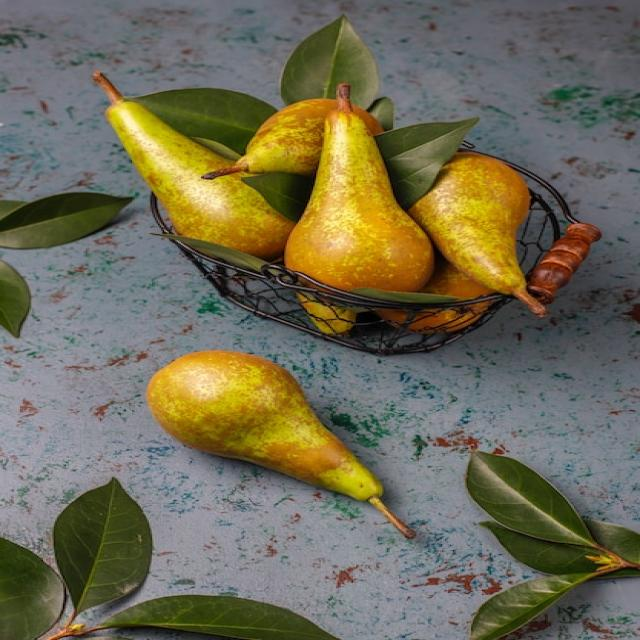pera: (128, 341, 431, 547)
